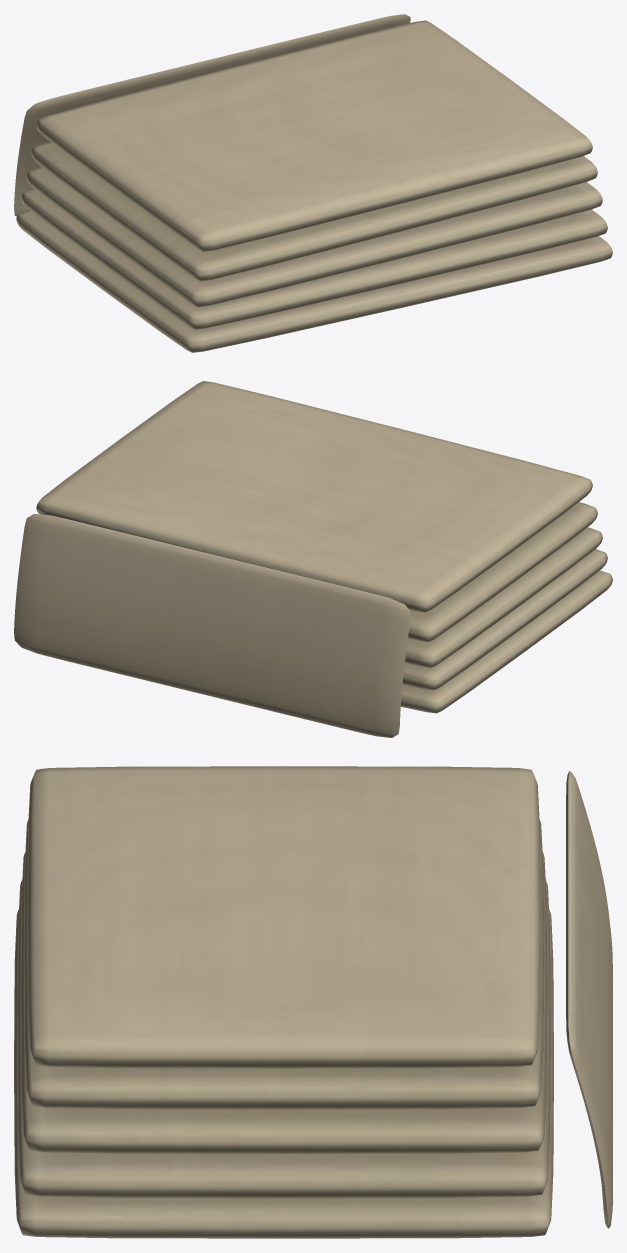
Rendered from linen_bolt.glb.
The picture shows the model from 3 angles, top to bottom: view 1: azimuth 30°, elevation 25°; view 2: azimuth 150°, elevation 25°; view 3: azimuth 270°, elevation 25°; orthographic projection. The views are drawn at different scales.
Parts seen in each view (by area): view 1: linen_bolt; view 2: linen_bolt; view 3: linen_bolt.
Part boxes in pixels (bbox=[...]): linen_bolt: bbox=[14, 14, 612, 352]; linen_bolt: bbox=[14, 381, 612, 737]; linen_bolt: bbox=[14, 766, 612, 1238].
Bounding box in the file's own units: 0.2197 × 0.0646 × 0.1772.
1 material, 1 textured.
